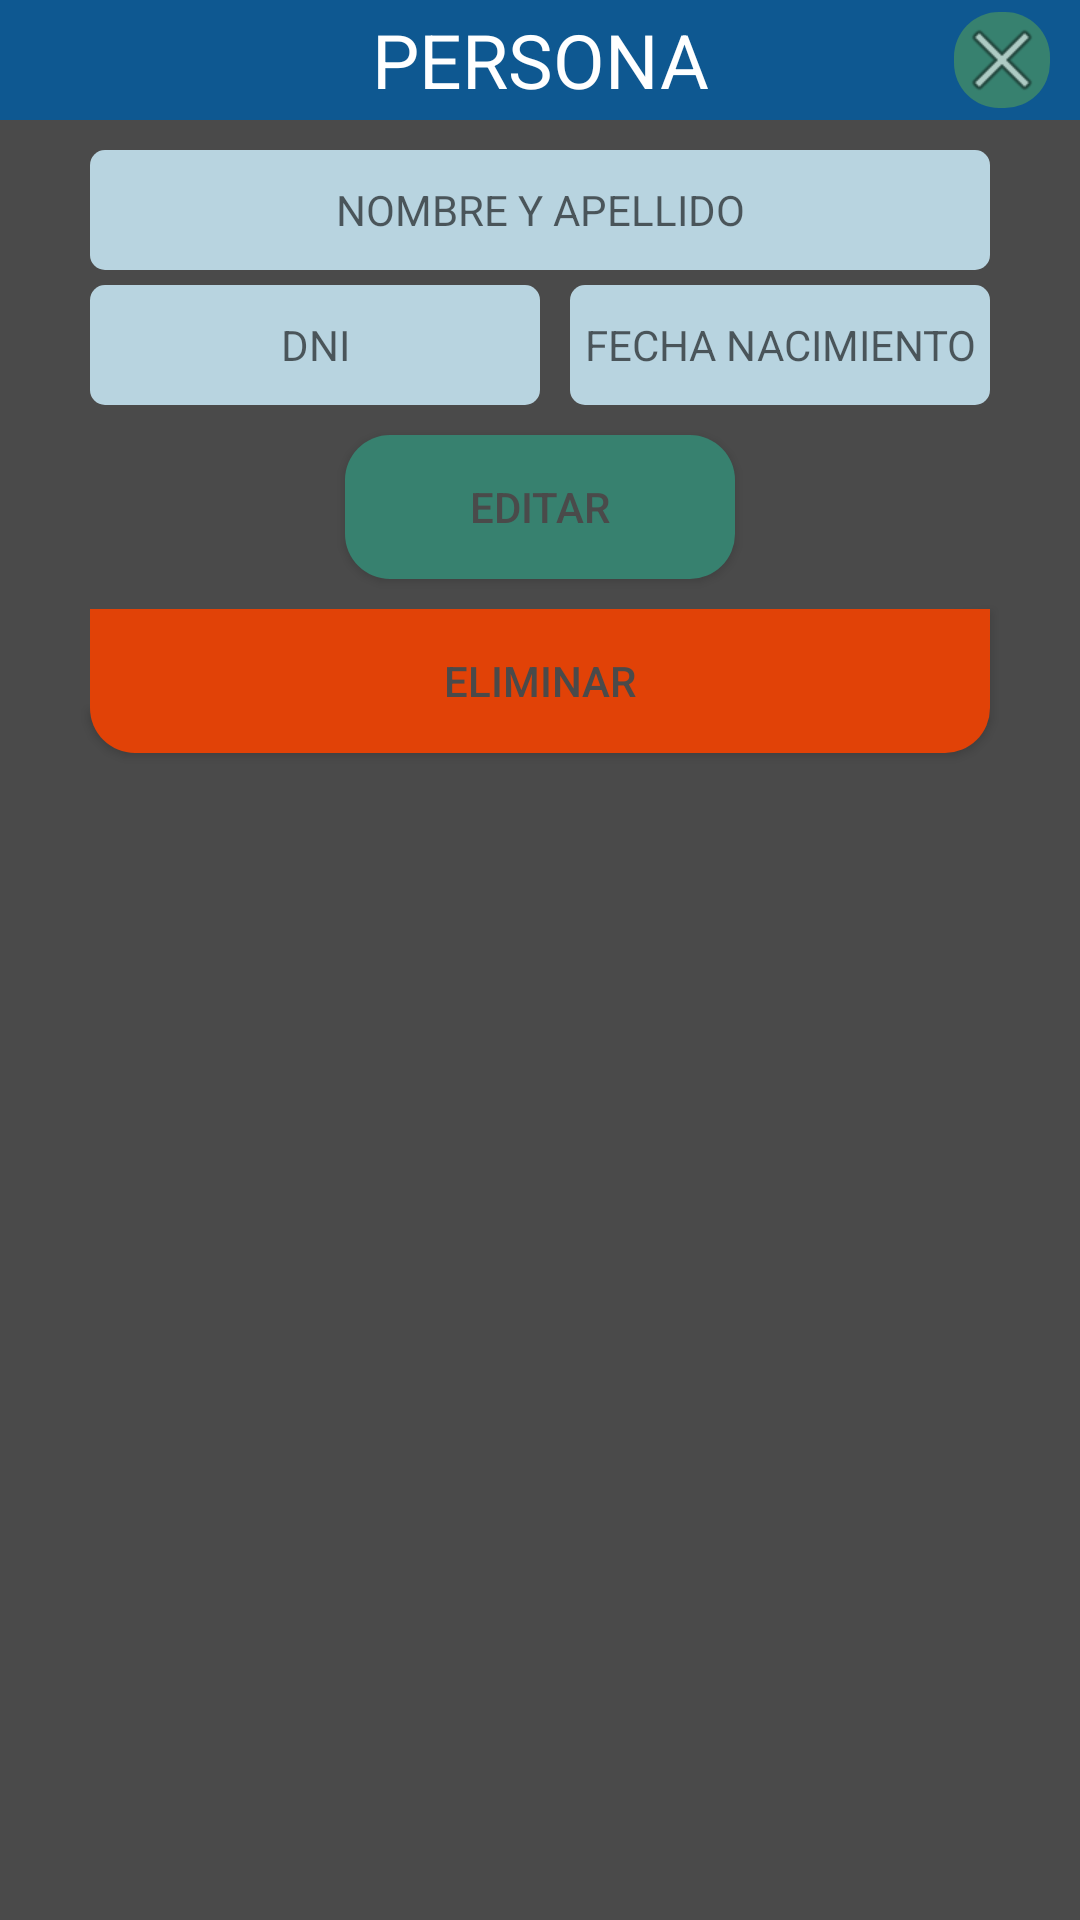

Screen size 1080×1920. Icon name, then its center in pixels as (x=x, y=y):
close clear cancel: (x=1002, y=60)
